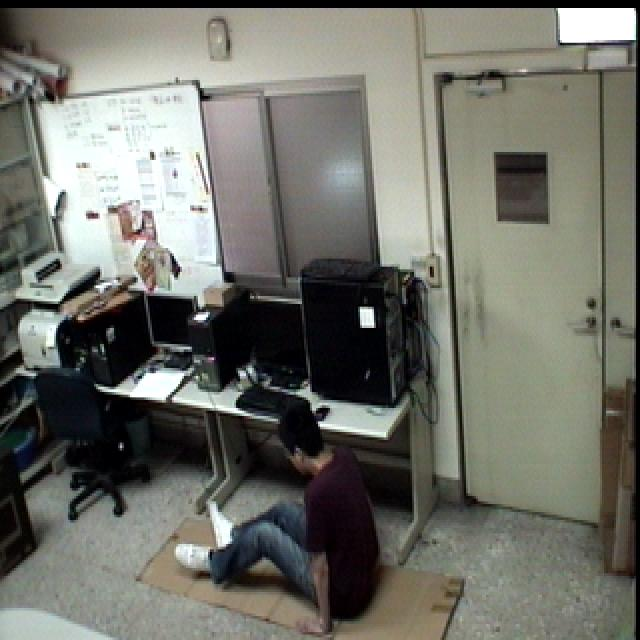sit: (171, 401, 388, 640)
